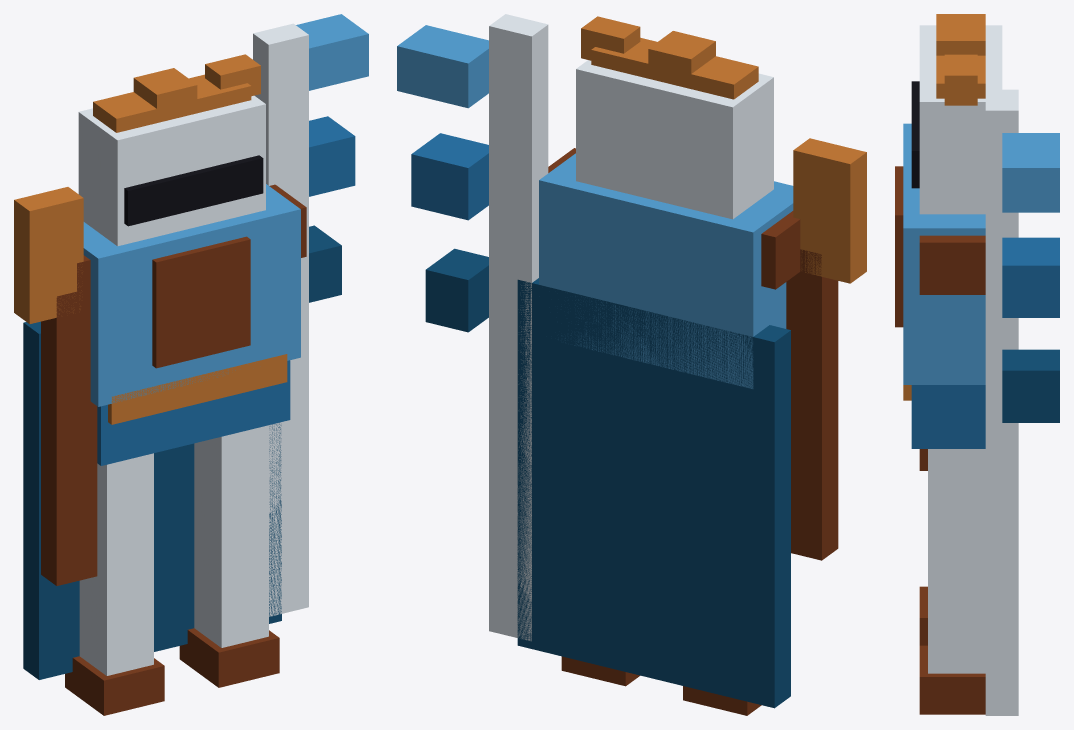
Rendered from commander.gltf.
The picture shows the model from 3 angles, left to right: view 1: azimuth 30°, elevation 25°; view 2: azimuth 150°, elevation 25°; view 3: azimuth 270°, elevation 25°; orthographic projection. The views are drawn at different scales.
Visible parts, largest first — view 1: 10_faction_plate, 04_grave_cape, 06_banner_pole, 16_bare_skull, 03_right_leg, 07_polearm_shaft, 02_left_leg, 12_pitted_cuirass, 15_polearm_head, 05_grave_skirt, 18_sockets, 09_rusted_belt (+9 smaller); view 2: 04_grave_cape, 10_faction_plate, 06_banner_pole, 16_bare_skull, 07_polearm_shaft, 15_polearm_head, 17_banner_rag_highest, 11_banner_rag_middle, 08_banner_rag_lowest, 19_broken_circlet, 13_left_pauldron, 20_circlet_prong_centre (+3 smaller); view 3: 06_banner_pole, 03_right_leg, 10_faction_plate, 16_bare_skull, 05_grave_skirt, 11_banner_rag_middle, 17_banner_rag_highest, 08_banner_rag_lowest, 14_right_pauldron, 01_right_boot, 20_circlet_prong_centre, 21_circlet_prong_right (+4 smaller).
Part boxes in pixels (x1=…): 10_faction_plate: x1=83, y1=184, x2=300, y2=406; 04_grave_cape: x1=23, y1=321, x2=281, y2=679; 06_banner_pole: x1=253, y1=23, x2=308, y2=616; 16_bare_skull: x1=78, y1=95, x2=265, y2=246; 03_right_leg: x1=194, y1=425, x2=268, y2=647; 07_polearm_shaft: x1=41, y1=288, x2=97, y2=585; 02_left_leg: x1=79, y1=453, x2=153, y2=675; 12_pitted_cuirass: x1=152, y1=236, x2=250, y2=368; 15_polearm_head: x1=14, y1=187, x2=83, y2=323; 05_grave_skirt: x1=97, y1=360, x2=290, y2=465; 18_sockets: x1=124, y1=155, x2=263, y2=226; 09_rusted_belt: x1=108, y1=354, x2=287, y2=424; 04_grave_cape: x1=517, y1=278, x2=790, y2=708; 10_faction_plate: x1=539, y1=153, x2=793, y2=388; 06_banner_pole: x1=489, y1=14, x2=548, y2=641; 16_bare_skull: x1=576, y1=60, x2=773, y2=219; 07_polearm_shaft: x1=786, y1=249, x2=838, y2=560; 15_polearm_head: x1=793, y1=138, x2=866, y2=283; 17_banner_rag_highest: x1=397, y1=25, x2=488, y2=108; 11_banner_rag_middle: x1=411, y1=133, x2=488, y2=220; 08_banner_rag_lowest: x1=425, y1=248, x2=488, y2=332; 19_broken_circlet: x1=591, y1=37, x2=758, y2=99; 13_left_pauldron: x1=761, y1=211, x2=800, y2=289; 20_circlet_prong_centre: x1=648, y1=31, x2=715, y2=87; 06_banner_pole: x1=985, y1=89, x2=1018, y2=715; 03_right_leg: x1=928, y1=449, x2=985, y2=673; 10_faction_plate: x1=903, y1=123, x2=985, y2=384; 16_bare_skull: x1=919, y1=25, x2=1002, y2=214; 05_grave_skirt: x1=911, y1=385, x2=985, y2=448; 11_banner_rag_middle: x1=1002, y1=237, x2=1059, y2=317; 17_banner_rag_highest: x1=1002, y1=133, x2=1059, y2=212; 08_banner_rag_lowest: x1=1002, y1=349, x2=1059, y2=422; 14_right_pauldron: x1=919, y1=235, x2=985, y2=294; 01_right_boot: x1=919, y1=645, x2=985, y2=714; 20_circlet_prong_centre: x1=936, y1=20, x2=985, y2=55; 21_circlet_prong_right: x1=944, y1=54, x2=977, y2=105.
Bounding box in the file's own units: 0.875 × 1.33 × 0.3125.
